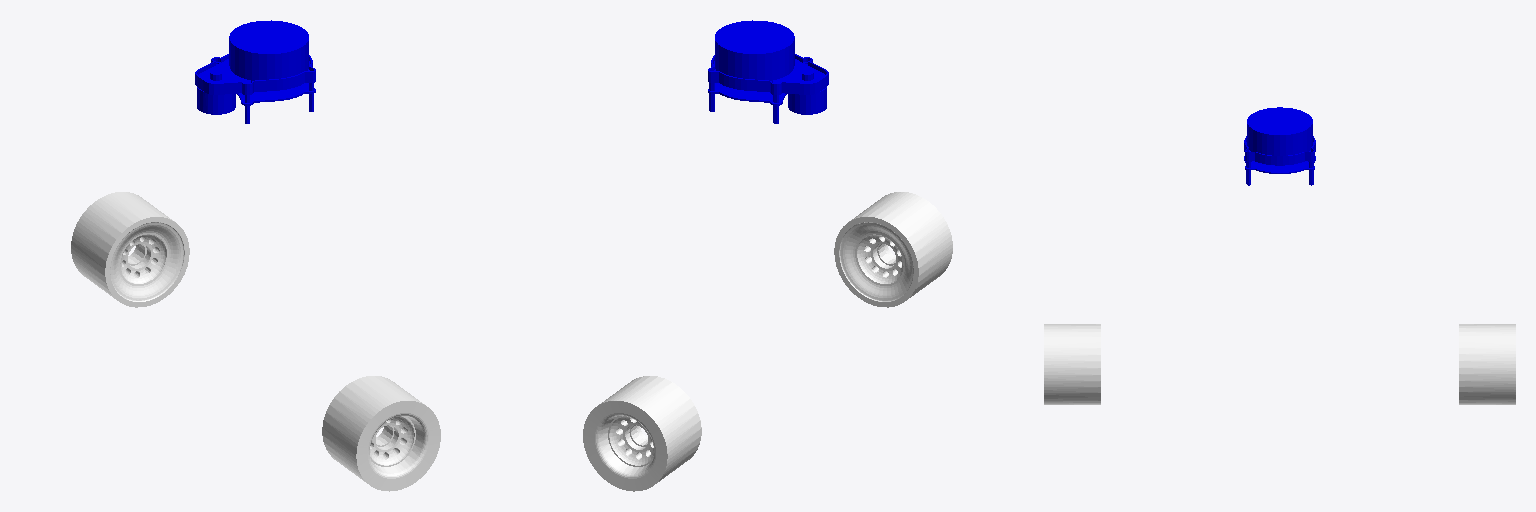
robot.urdf — robot_description:
<?xml version="1.0" encoding="utf-8"?>
<!-- This URDF was automatically created by SolidWorks to URDF Exporter! Originally created by [author] ([email redacted]) 
     Commit Version: 1.6.0-1-g15f4949  Build Version: 1.6.7594.29634
     For more information, please see http://wiki.ros.org/sw_urdf_exporter -->
<robot
  name="robot_description">
  <link
    name="base_link">
    <inertial>
      <origin
        xyz="0.160101630534542 0.0580756099074875 -0.000136119156643981"
        rpy="0 0 0" />
      <mass
        value="2.82179586746623" />
      <inertia
        ixx="0.0121685783378515"
        ixy="6.0396303335654E-05"
        ixz="-6.43217663670925E-07"
        iyy="0.0266712906462102"
        iyz="1.74864856963884E-06"
        izz="0.0152664824716702" />
    </inertial>
    <visual>
      <origin
        xyz="0 0 0"
        rpy="0 0 0" />
      <geometry>
        <mesh
          filename="package://robot_description/meshes/base_link.STL" />
      </geometry>
      <material
        name="">
        <color
          rgba="0.752941176470588 0.752941176470588 0.752941176470588 1" />
      </material>
    </visual>
    <collision>
      <origin
        xyz="0 0 0"
        rpy="0 0 0" />
      <geometry>
        <mesh
          filename="package://robot_description/meshes/base_link.STL" />
      </geometry>
    </collision>
  </link>
  <link
    name="wheel_L_link">
    <inertial>
      <origin
        xyz="-1.3708E-09 -0.027926 4.8164E-08"
        rpy="0 0 0" />
      <mass
        value="0.20842" />
      <inertia
        ixx="0.00014649"
        ixy="5.8837E-12"
        ixz="-1.2023E-12"
        iyy="0.00020361"
        iyz="-1.2133E-10"
        izz="0.00014649" />
    </inertial>
    <visual>
      <origin
        xyz="0 0 0"
        rpy="0 0 0" />
      <geometry>
        <mesh
          filename="package://robot_description/meshes/wheel_L_link.STL" />
      </geometry>
      <material
        name="">
        <color
          rgba="1 1 1 1" />
      </material>
    </visual>
    <collision>
      <origin
        xyz="0 0 0"
        rpy="0 0 0" />
      <geometry>
        <mesh
          filename="package://robot_description/meshes/wheel_L_link.STL" />
      </geometry>
    </collision>
  </link>
  <joint
    name="wheel_L_joint"
    type="continuous">
    <origin
      xyz="0.27197 0.17775 -0.043"
      rpy="3.1416 1.4287 0" />
    <parent
      link="base_link" />
    <child
      link="wheel_L_link" />
    <axis
      xyz="0 1 0" />
  </joint>
  <link
    name="wheel_R_link">
    <inertial>
      <origin
        xyz="-1.3708E-09 -0.027926 4.8164E-08"
        rpy="0 0 0" />
      <mass
        value="0.20842" />
      <inertia
        ixx="0.00014649"
        ixy="5.8837E-12"
        ixz="-1.2023E-12"
        iyy="0.00020361"
        iyz="-1.2133E-10"
        izz="0.00014649" />
    </inertial>
    <visual>
      <origin
        xyz="0 0 0"
        rpy="0 0 0" />
      <geometry>
        <mesh
          filename="package://robot_description/meshes/wheel_R_link.STL" />
      </geometry>
      <material
        name="">
        <color
          rgba="1 1 1 1" />
      </material>
    </visual>
    <collision>
      <origin
        xyz="0 0 0"
        rpy="0 0 0" />
      <geometry>
        <mesh
          filename="package://robot_description/meshes/wheel_R_link.STL" />
      </geometry>
    </collision>
  </link>
  <joint
    name="wheel_R_joint"
    type="continuous">
    <origin
      xyz="0.27197 -0.17775 -0.043"
      rpy="-3.1416 -1.3607 3.1416" />
    <parent
      link="base_link" />
    <child
      link="wheel_R_link" />
    <axis
      xyz="0 1 0" />
  </joint>
  <link
    name="lidar_link">
    <inertial>
      <origin
        xyz="-0.0082941 5.3446E-16 0.010701"
        rpy="0 0 0" />
      <mass
        value="0.1467" />
      <inertia
        ixx="6.2272E-05"
        ixy="-8.8366E-20"
        ixz="-1.8866E-05"
        iyy="0.00010967"
        iyz="-2.1585E-20"
        izz="0.00012568" />
    </inertial>
    <visual>
      <origin
        xyz="0 0 0"
        rpy="0 0 0" />
      <geometry>
        <mesh
          filename="package://robot_description/meshes/lidar_link.STL" />
      </geometry>
      <material
        name="">
        <color
          rgba="0 0 1 1" />
      </material>
    </visual>
    <collision>
      <origin
        xyz="0 0 0"
        rpy="0 0 0" />
      <geometry>
        <mesh
          filename="package://robot_description/meshes/lidar_link.STL" />
      </geometry>
    </collision>
  </link>
  <joint
    name="lidar_joint"
    type="fixed">
    <origin
      xyz="0.2846 0 0.197"
      rpy="0 0 0" />
    <parent
      link="base_link" />
    <child
      link="lidar_link" />
    <axis
      xyz="0 0 0" />
  </joint>
</robot>

--- Render facts (derived) ---
Views: 3 orthographic renders of the robot side by side, from view 1: azimuth 30°, elevation 25°; view 2: azimuth 150°, elevation 25°; view 3: azimuth 270°, elevation 25°.
Robot: robot_description — 4 links, 3 joints (2 continuous, 1 fixed); root link base_link; default pose: every joint at zero.
Visible links, largest first — view 1: wheel_R_link, wheel_L_link, lidar_link; view 2: wheel_L_link, wheel_R_link, lidar_link; view 3: wheel_L_link, wheel_R_link, lidar_link.
Boxes of the visible links, <box> form: wheel_R_link: <box>322,376,440,491</box>; wheel_L_link: <box>71,192,189,307</box>; lidar_link: <box>195,20,315,123</box>; wheel_L_link: <box>583,376,701,491</box>; wheel_R_link: <box>834,192,952,307</box>; lidar_link: <box>708,20,828,123</box>; wheel_L_link: <box>1459,324,1515,404</box>; wheel_R_link: <box>1044,324,1100,404</box>; lidar_link: <box>1244,107,1315,185</box>.
Size in the robot's own frame: 0.1014 by 0.4675 by 0.312 metres.
3 mesh visuals loaded from 4 distinct referenced files (3 binary STL); not drawn: 1 (reference not matched to a file when rendering).
